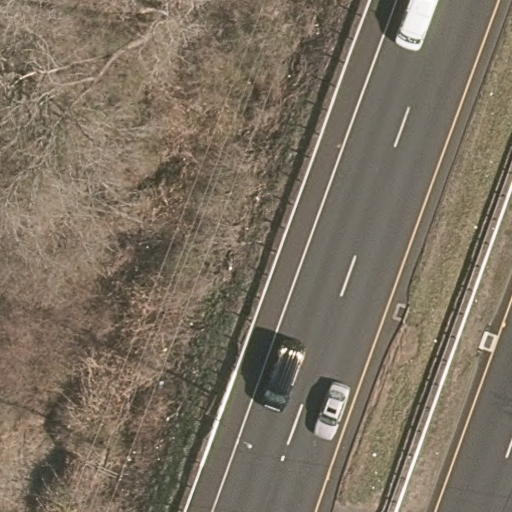DT: (76, 441, 137, 497)
